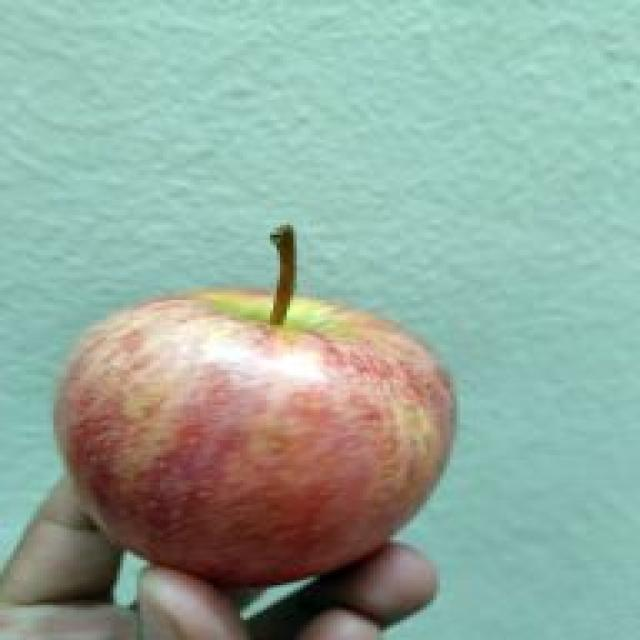Good_Apple: (50, 225, 457, 592)
